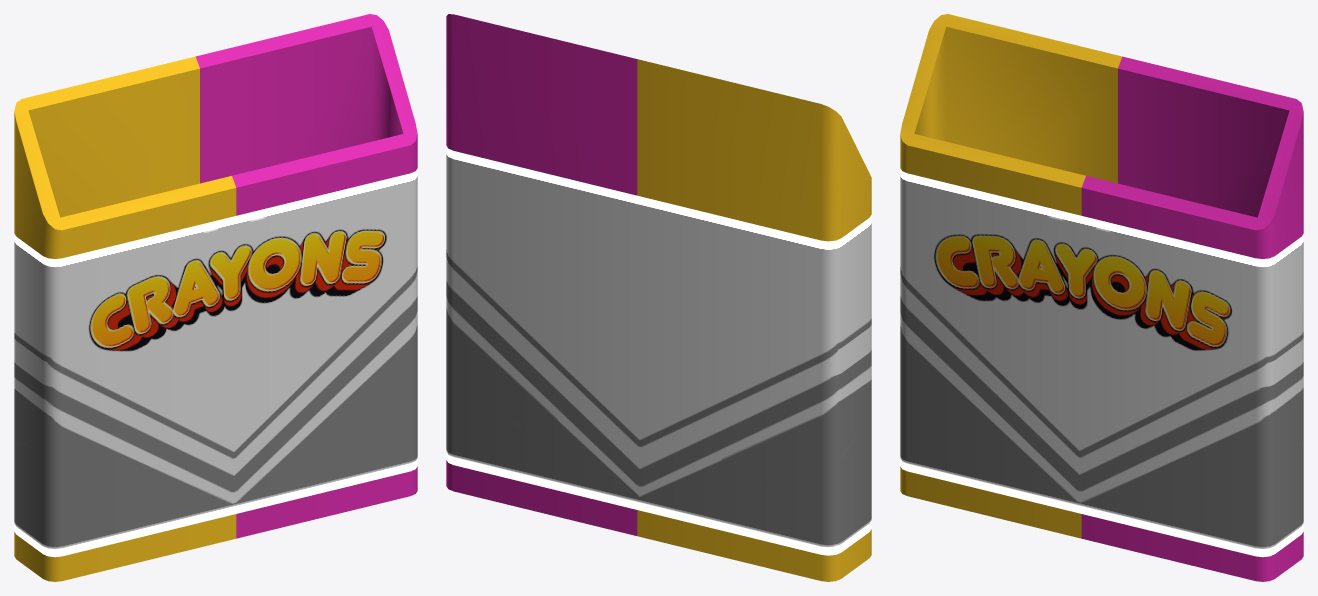
The model's file is Crayons_Box 2.fbx.
The picture shows the model from 3 angles, left to right: view 1: azimuth 30°, elevation 25°; view 2: azimuth 150°, elevation 25°; view 3: azimuth 330°, elevation 25°; orthographic projection. The views are drawn at different scales.
Parts seen in each view (by area): view 1: Cube; view 2: Cube; view 3: Cube.
Boxes of the visible parts, x1=… form: Cube: x1=14, y1=14, x2=417, y2=581; Cube: x1=446, y1=14, x2=871, y2=581; Cube: x1=900, y1=14, x2=1303, y2=581.
Size of the model in its own units: 542 by 629 by 103.
